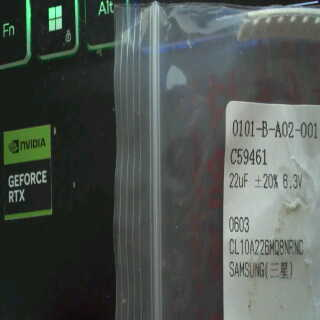22uF: (227, 170, 250, 194)
